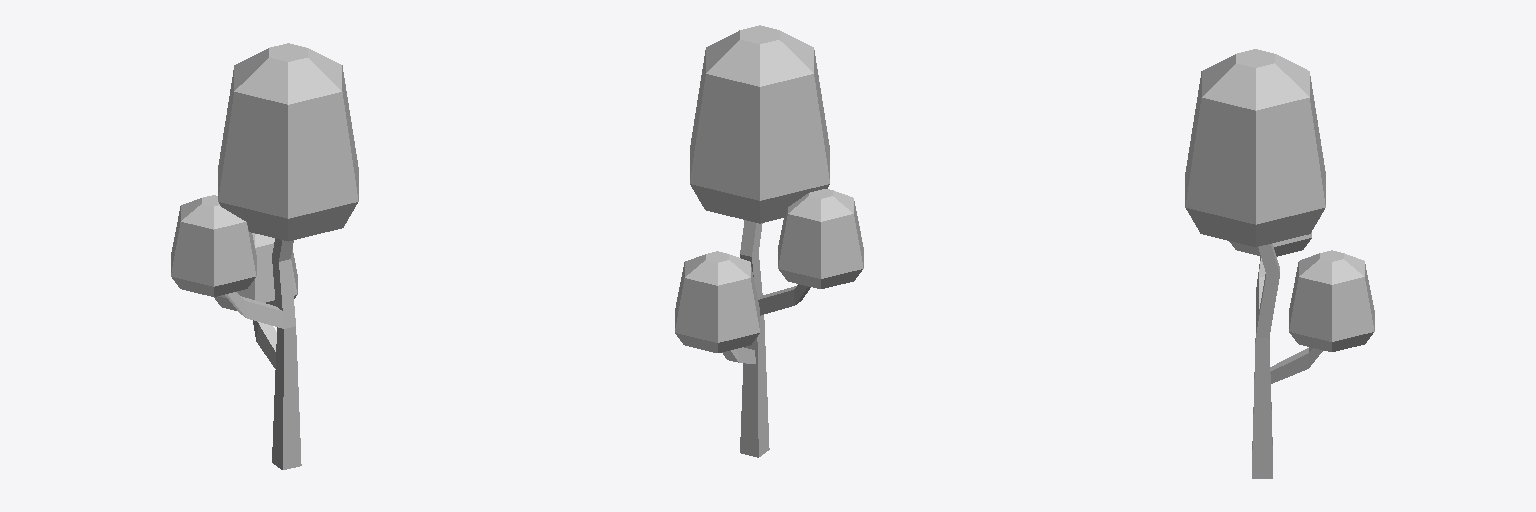
Rendered from tree_thin.obj.
The picture shows the model from 3 angles: view 1: azimuth 30°, elevation 25°; view 2: azimuth 150°, elevation 25°; view 3: azimuth 270°, elevation 25°; orthographic projection.
Parts seen in each view (by area): view 1: tree_thin; view 2: tree_thin; view 3: tree_thin.
Part boxes in pixels (x1,y1,x2,y2): tree_thin: (171,43,358,469); tree_thin: (675,25,863,457); tree_thin: (1185,49,1374,478).
Size of the model in its own units: 6.8 by 14.9 by 6.17.